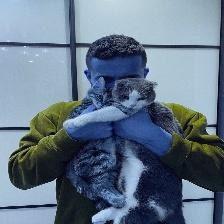kedo: (113, 81, 157, 110), (89, 77, 115, 109)
